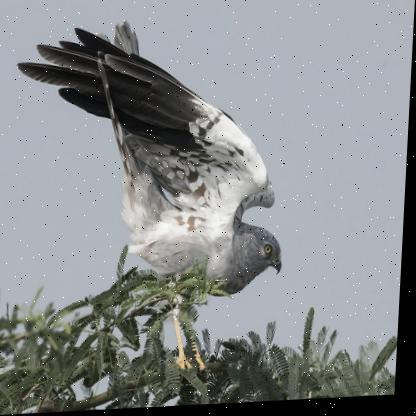Burung: (5, 11, 300, 371)
